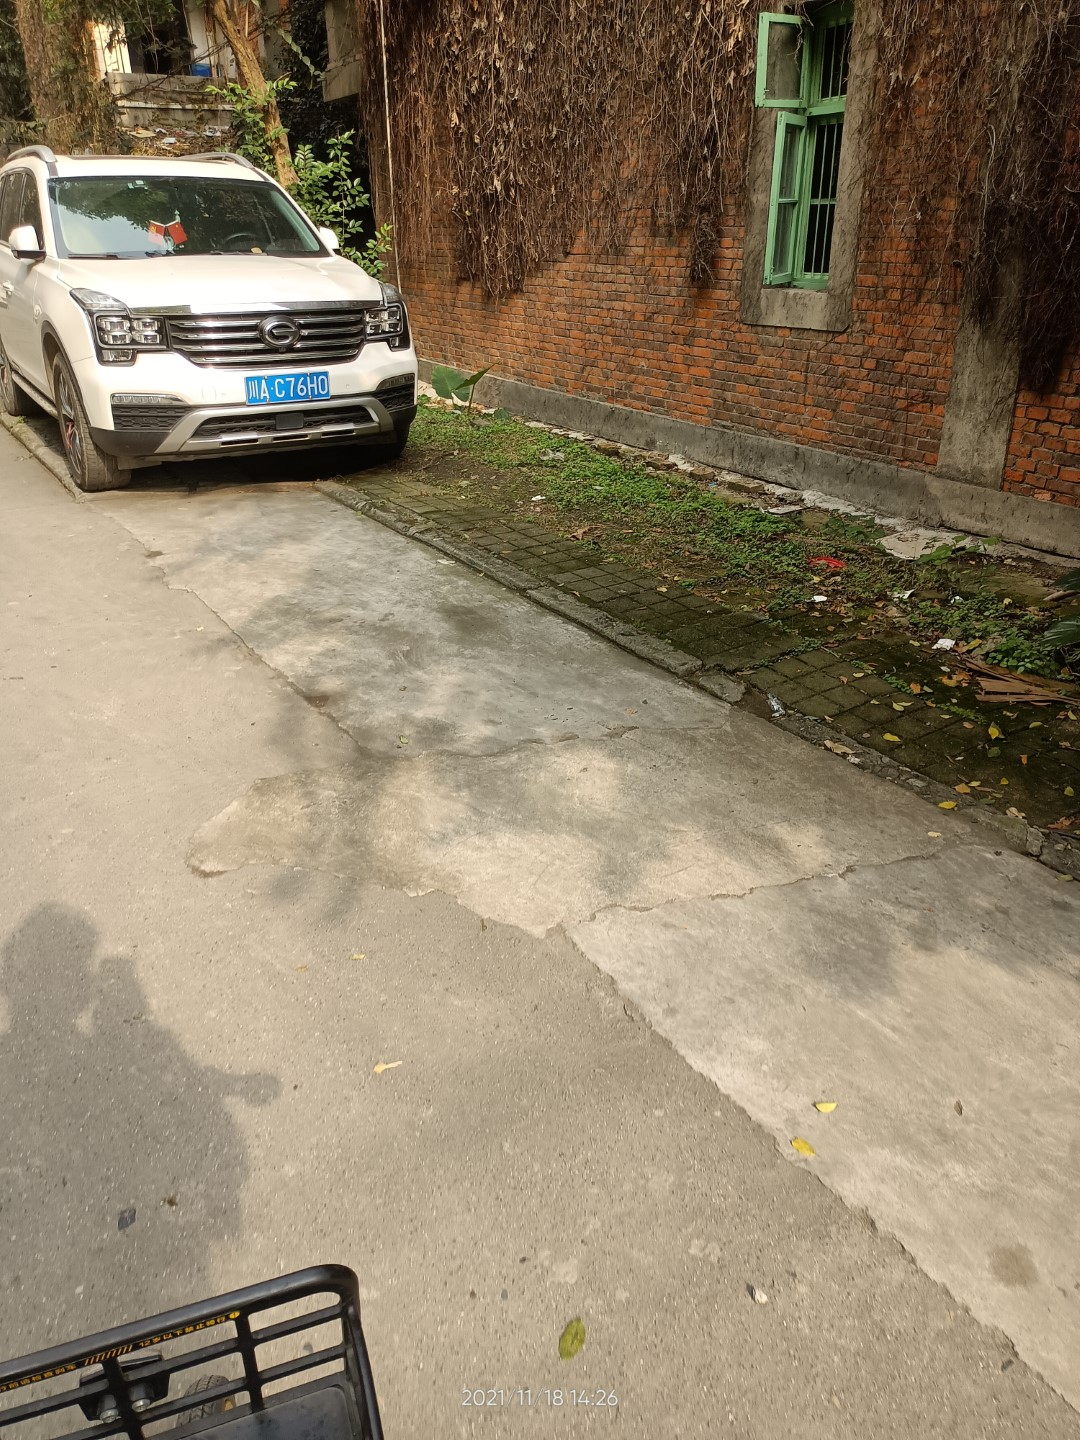plate: (244, 370, 330, 404)
